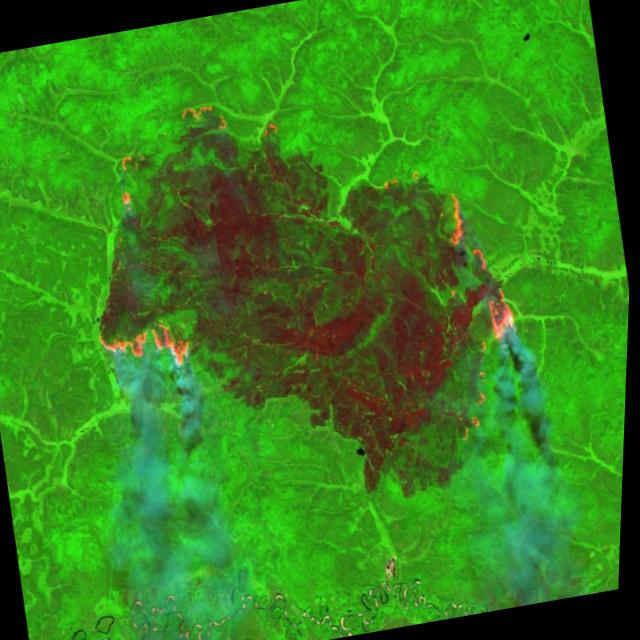fire: (418, 180, 542, 446), (96, 316, 196, 382), (106, 147, 148, 210), (176, 100, 230, 138)
